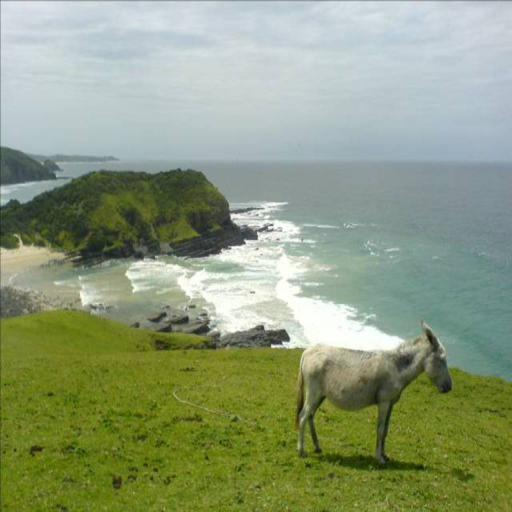horse: (294, 318, 454, 466)
